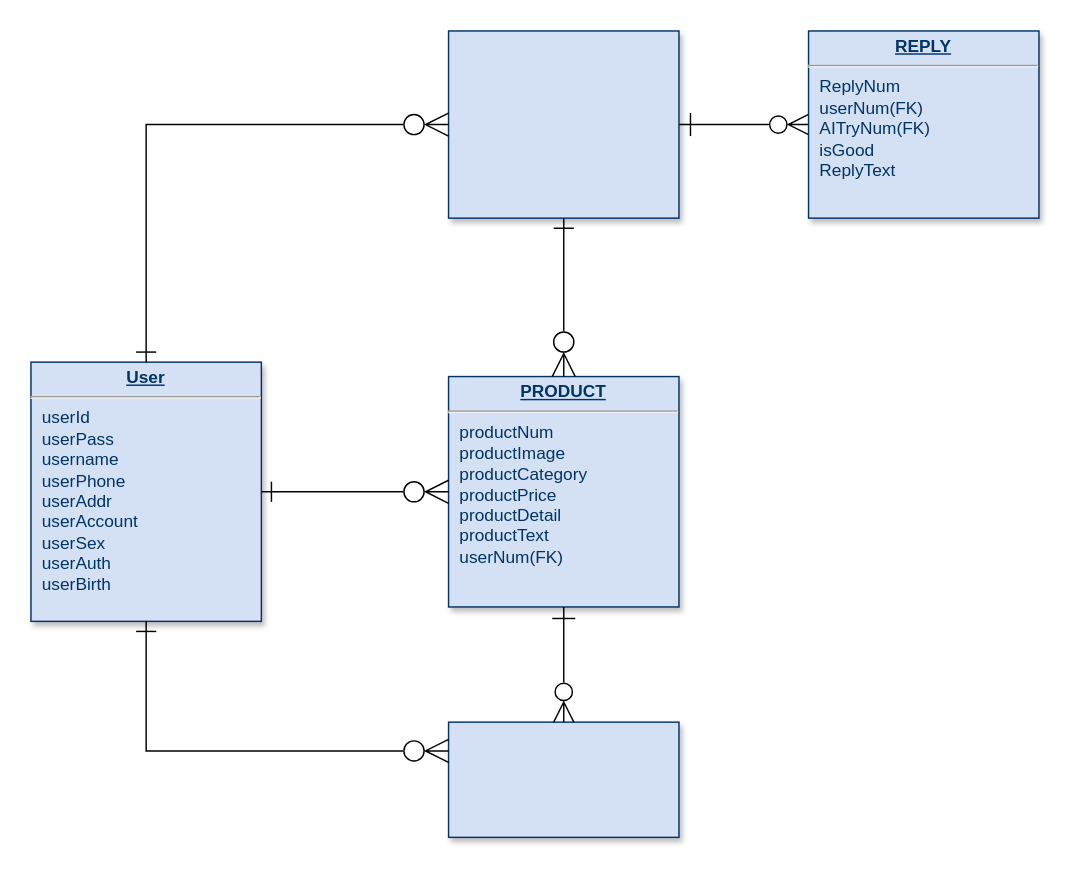
Some shapes in this 1073 by 873 pixel diagram are drawn without their labels. Here are the shapes that lost their labels. From the top down, the centre of each, then its label:
(564,126): AITRY AITryNum userNum(FK) AIModelImg TopClothes BotClothes ReplyNum
(564,781): SHOPPINGBASKET userNum(FK) productNum(FK) productCount
